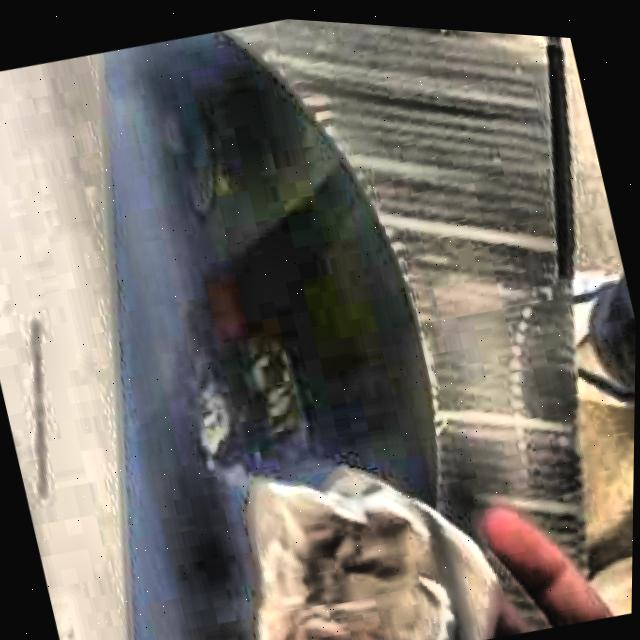metal: (255, 462, 503, 640)
